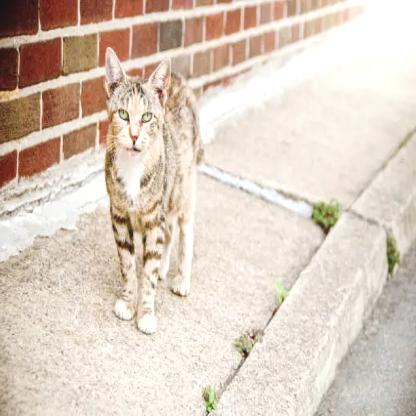cat: (103, 48, 200, 295)
